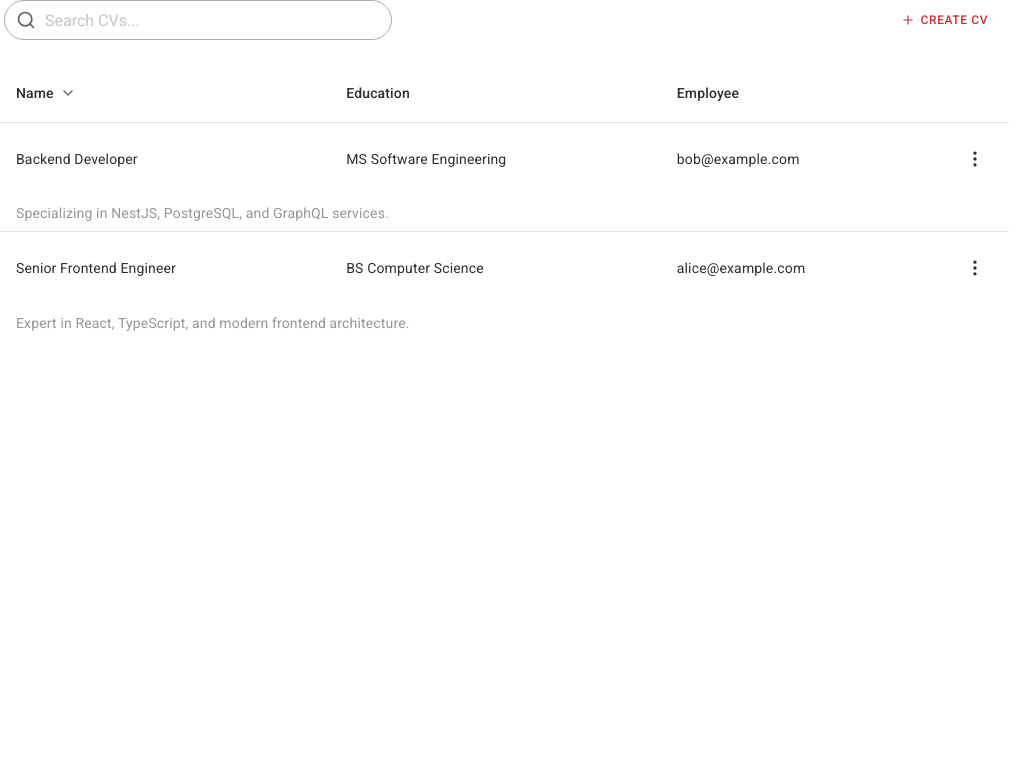
it: CVTable Component › opens Create CV dialog when clicking Create CV button
Click the button "Create CV" at (944, 20), box [884,4,1005,36]
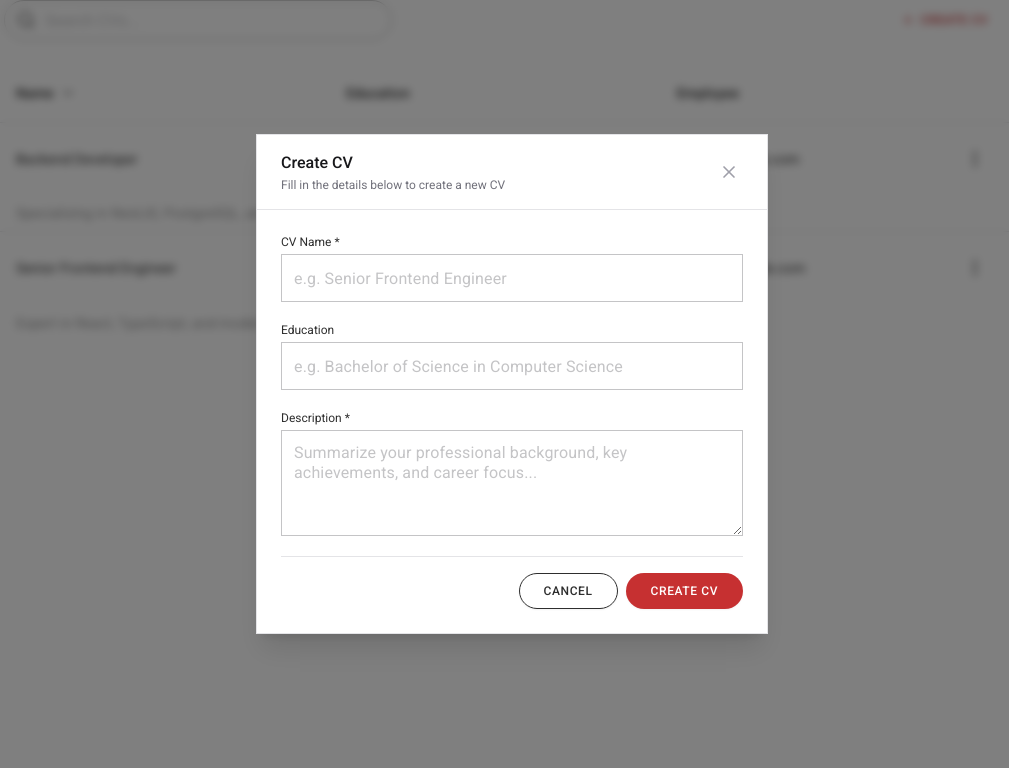
Check: the heading "Create CV" is shown, box [281,153,353,172]
Check: the field labelled "CV Name *" is shown, box [281,254,743,302]
Check: the field labelled "Education" is shown, box [281,342,743,390]
